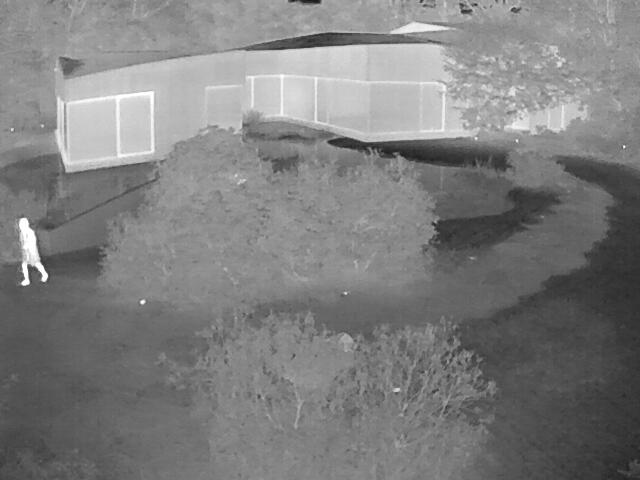person: (15, 217, 48, 287)
